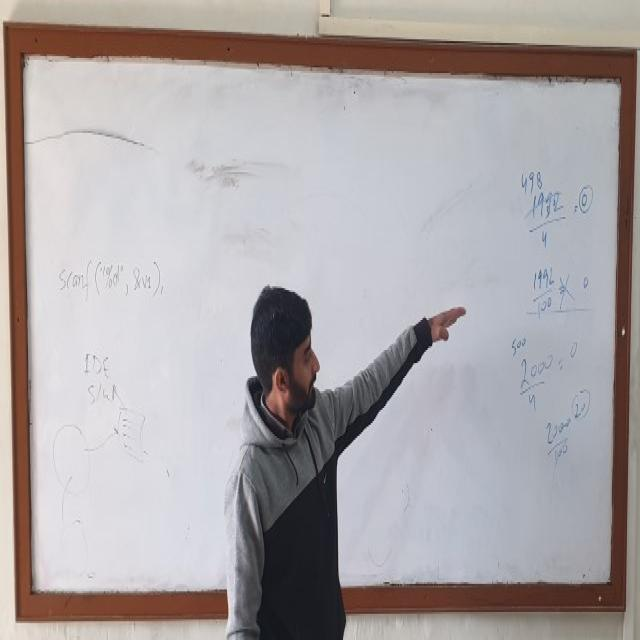Instructor: (232, 267, 358, 640)
White-board: (12, 36, 629, 604)
